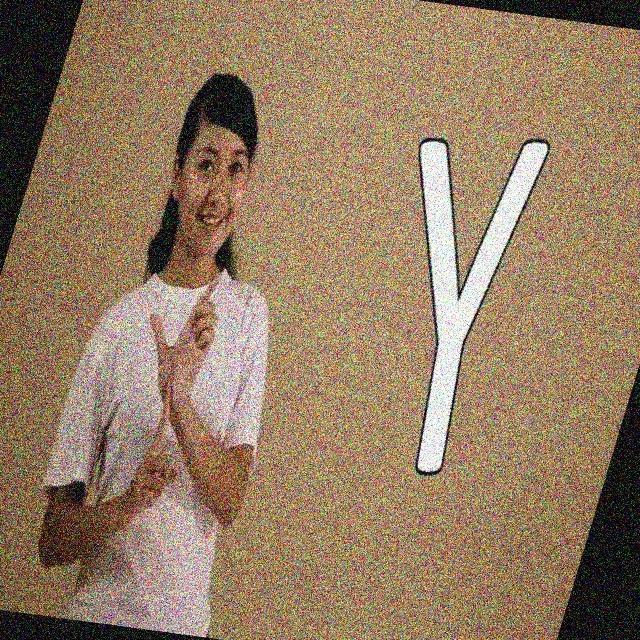Y: (128, 266, 224, 509)
